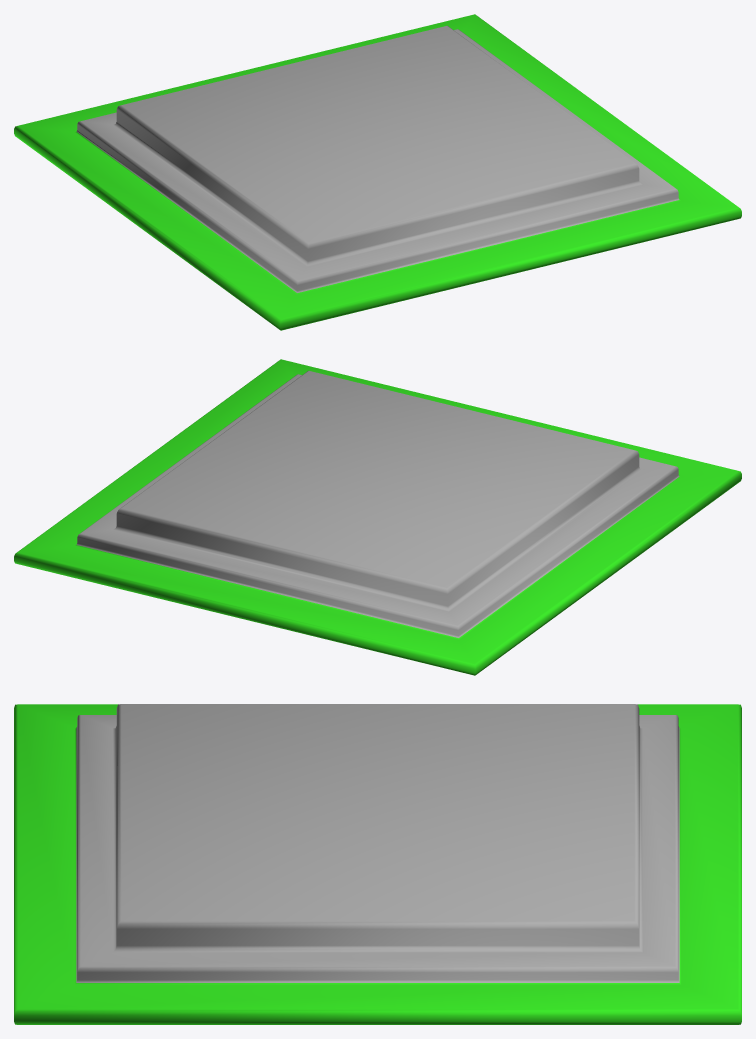
Rendered from chip.glb.
The picture shows the model from 3 angles, top to bottom: view 1: azimuth 30°, elevation 25°; view 2: azimuth 150°, elevation 25°; view 3: azimuth 270°, elevation 25°; orthographic projection. The views are drawn at different scales.
Visible parts, largest first — view 1: Cube; view 2: Cube; view 3: Cube.
Part boxes in pixels (bbox=[...]): Cube: bbox=[14, 14, 741, 330]; Cube: bbox=[14, 359, 741, 675]; Cube: bbox=[14, 704, 741, 1024].
Size of the model in its own units: 0.3263 by 0.0298 by 0.3263.
